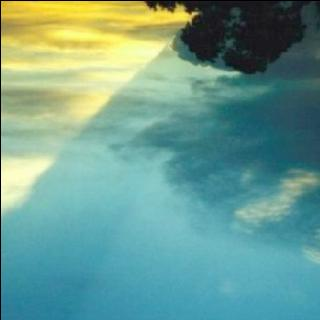Cumulonimbus: (0, 4, 320, 282)
